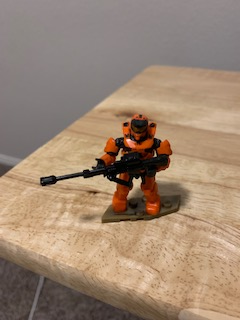spartan: (93, 114, 173, 217)
